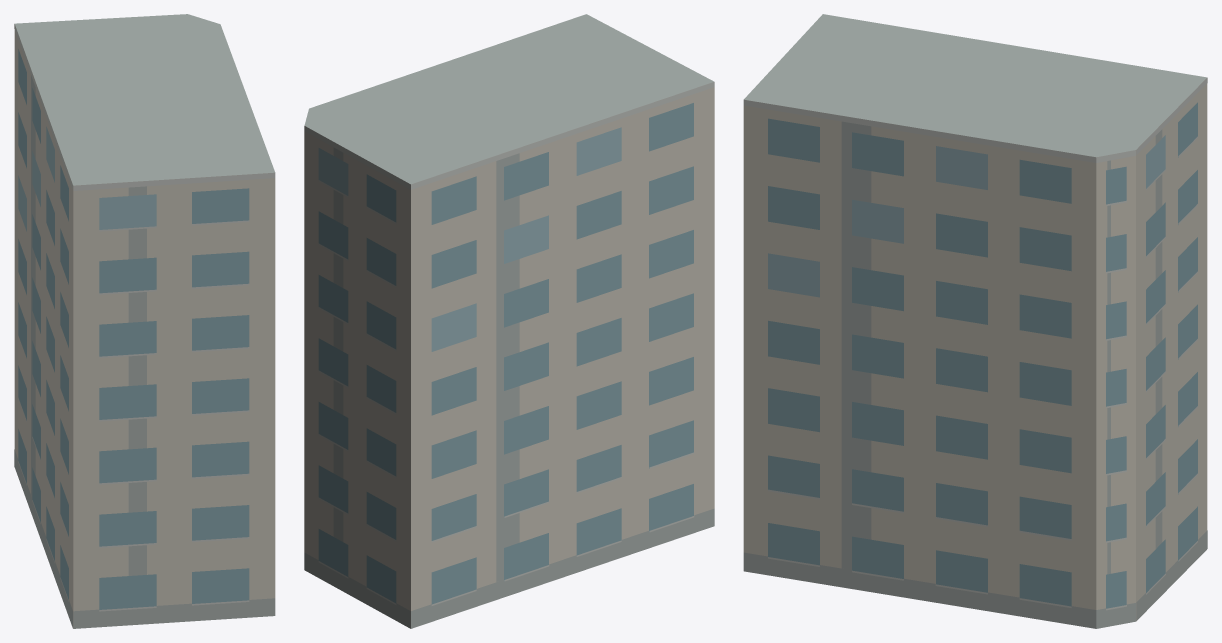
The model's file is survey-upis-32873586.glb.
The picture shows the model from 3 angles, left to right: view 1: azimuth 30°, elevation 25°; view 2: azimuth 150°, elevation 25°; view 3: azimuth 270°, elevation 25°; orthographic projection. The views are drawn at different scales.
Parts seen in each view (by area): view 1: survey-upis-32873586.tmp; view 2: survey-upis-32873586.tmp; view 3: survey-upis-32873586.tmp.
Part boxes in pixels (x1=…): survey-upis-32873586.tmp: x1=14, y1=14, x2=275, y2=628; survey-upis-32873586.tmp: x1=304, y1=14, x2=714, y2=628; survey-upis-32873586.tmp: x1=743, y1=14, x2=1207, y2=628.
Size of the model in its own units: 12.84 by 19.7 by 17.57.
